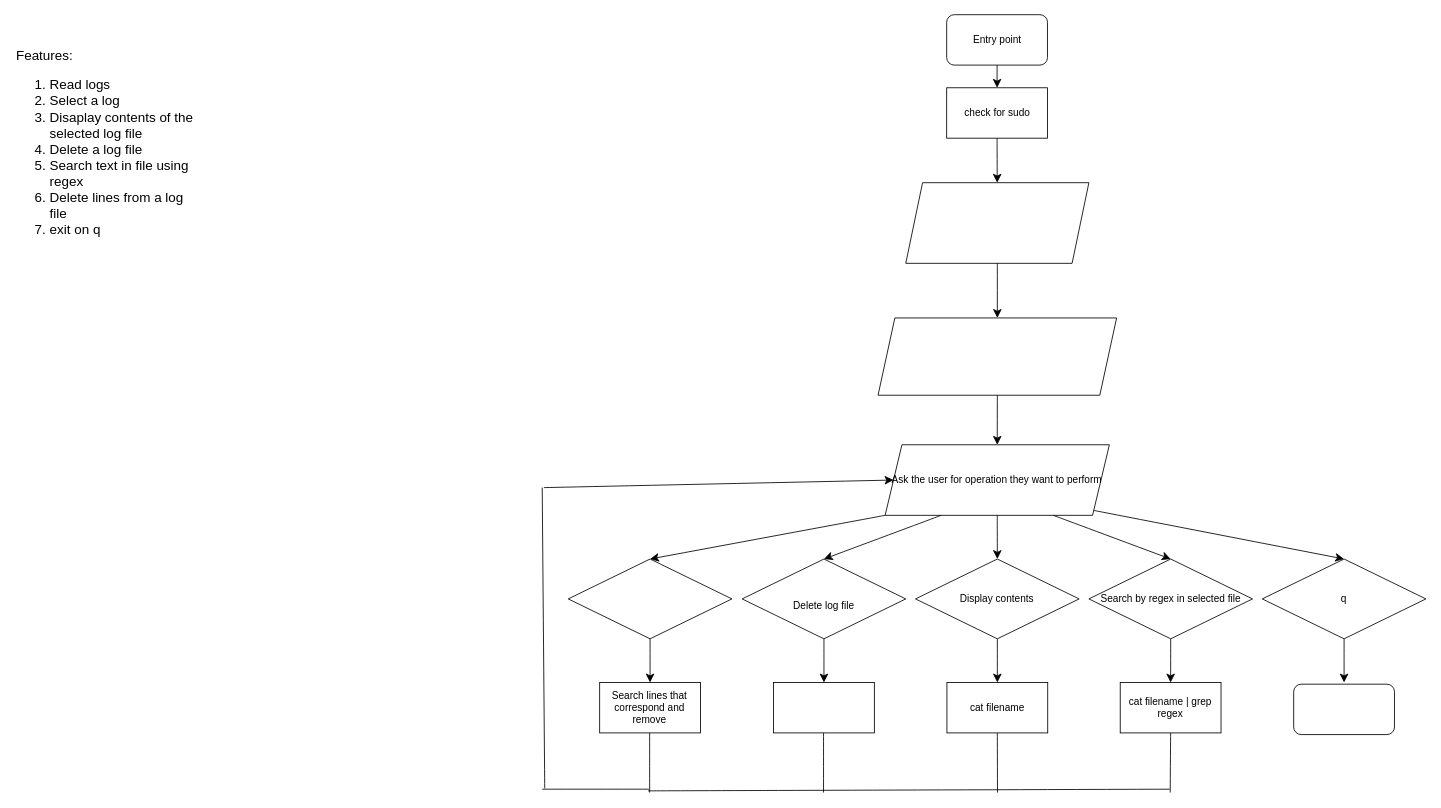
Some shapes in this 1441 by 808 pixel diagram are drawn without their labels. Each missing label, with the centre of its shape:
Delete contents: the point at 649,598
Display all the files and their ids in the array: the point at 997,356
EXIT: the point at 1343,709
Read all file names in /var/log And save them in an array: the point at 997,222
rm filename: the point at 823,707
